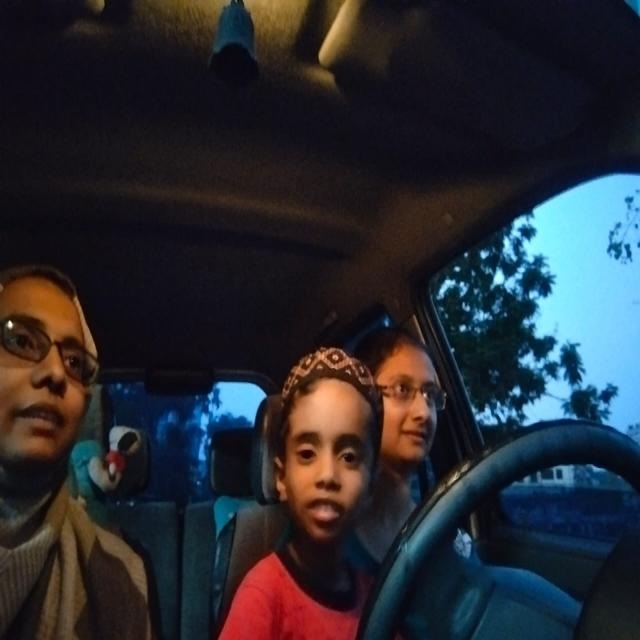child: (263, 314, 381, 568)
person: (2, 242, 110, 493), (378, 314, 468, 477)
